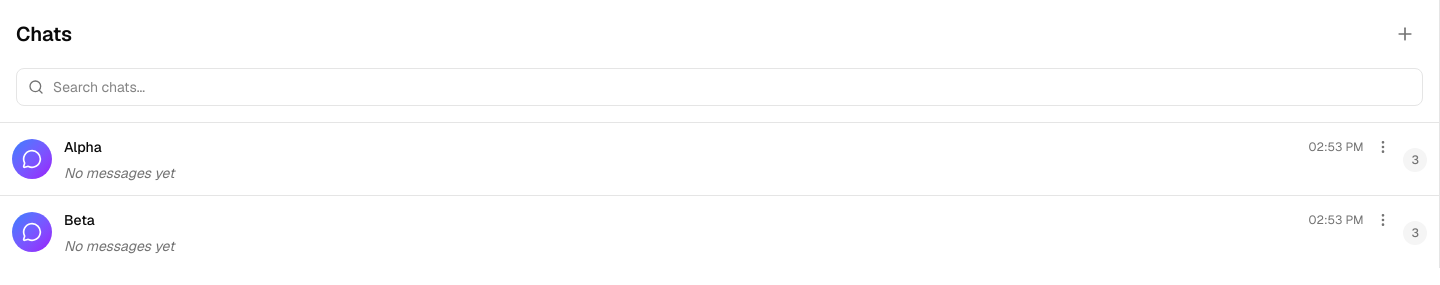
Test: ChatroomList deletion › opens the menu for the pressed chatroom only
The width and height of the screenshot is (1440, 285).
What coordinates should you click on to do the following:
click the button without text in the row of "Alpha"
I would click on:
 (1384, 147)
Its box is [1372,135,1396,159].
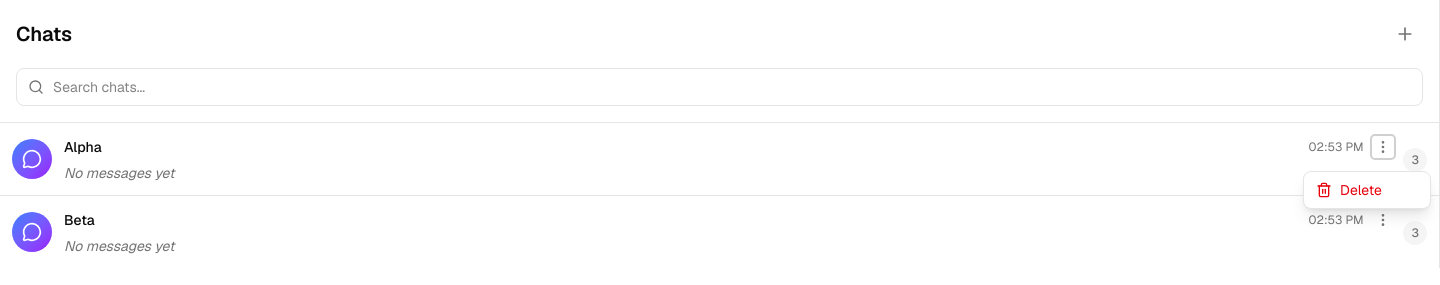
Result: the number of buttons "Delete" is 1 at [1304,172,1430,208]
